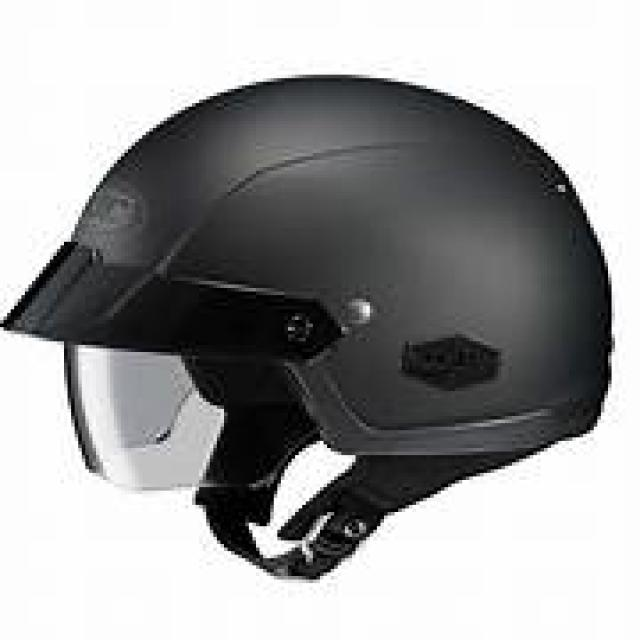helmet: (11, 66, 619, 586)
